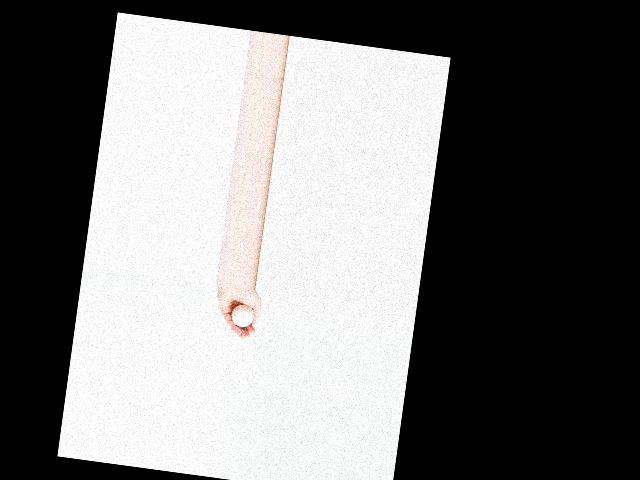egg: (230, 303, 254, 328)
